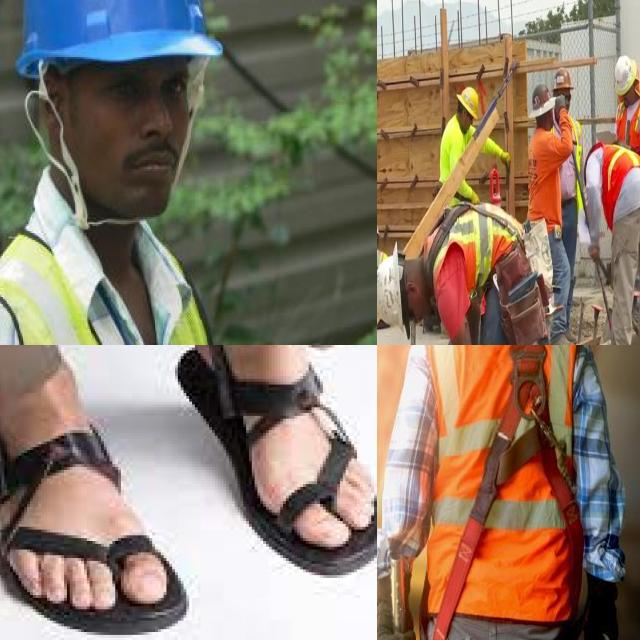Harness: (433, 345, 585, 640)
No_Glasses: (87, 65, 199, 124)
Sandals: (0, 385, 188, 635), (175, 345, 377, 576)
face_nomask: (70, 71, 212, 217)
head_helmet: (12, 0, 228, 62), (377, 243, 406, 335), (530, 82, 558, 117), (612, 56, 636, 94), (456, 85, 480, 118), (554, 70, 572, 91)
person: (0, 0, 255, 345), (377, 202, 531, 345), (525, 87, 580, 345), (582, 141, 640, 345), (438, 86, 514, 206), (611, 55, 640, 165), (377, 221, 389, 305)
vest: (0, 215, 233, 345), (423, 200, 527, 286), (377, 245, 387, 299)
